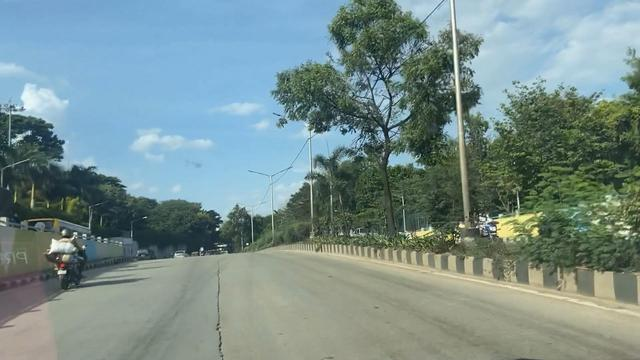LMV: (51, 230, 85, 290)
RoadDamages: (201, 303, 260, 356), (199, 256, 233, 298)
